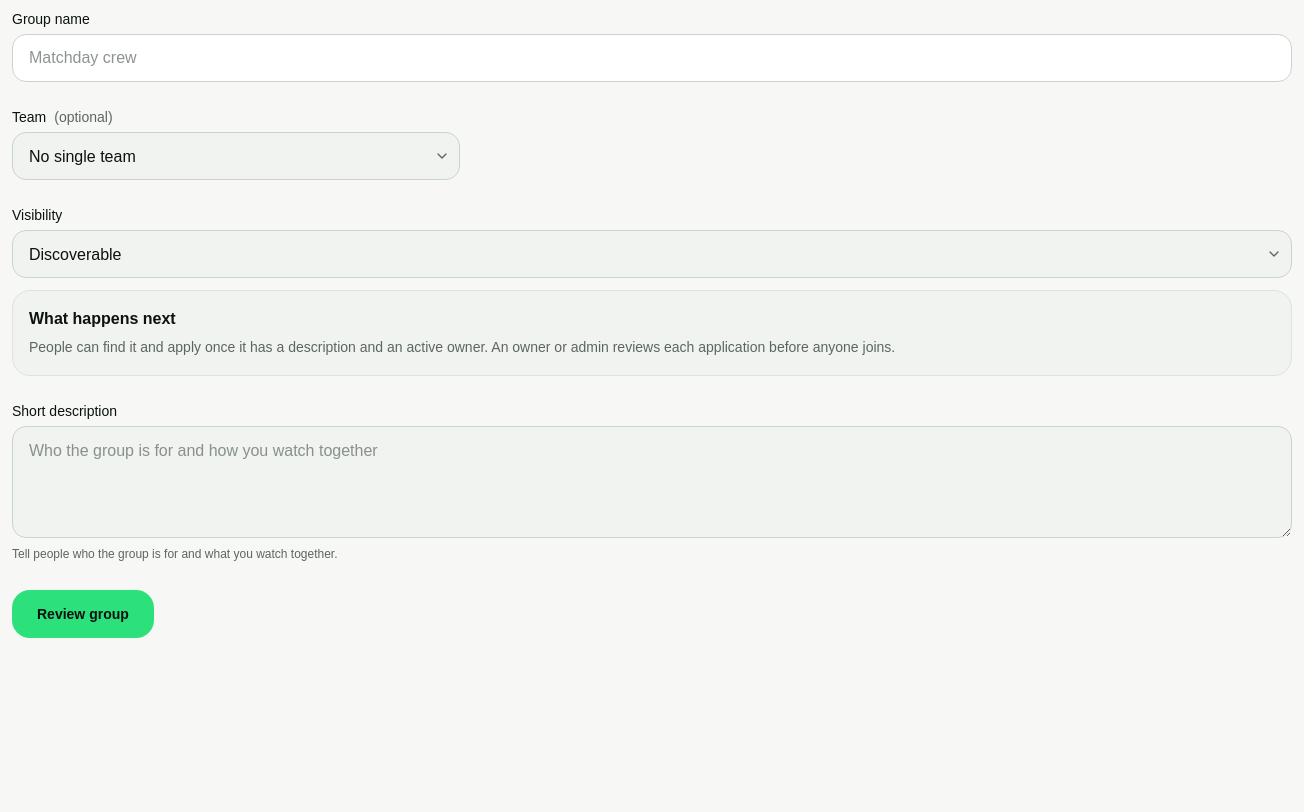
Test: GroupCreateForm › explains the selected visibility boundary before creation
Expected: the text "owner or admin reviews each application" is shown, [29,339,895,355]
Expected: the button "Review group" is shown, [12,590,154,638]
Select "Unlisted" in the dropdown labelled "Visibility" at x=652, y=254, box [12,230,1292,278]
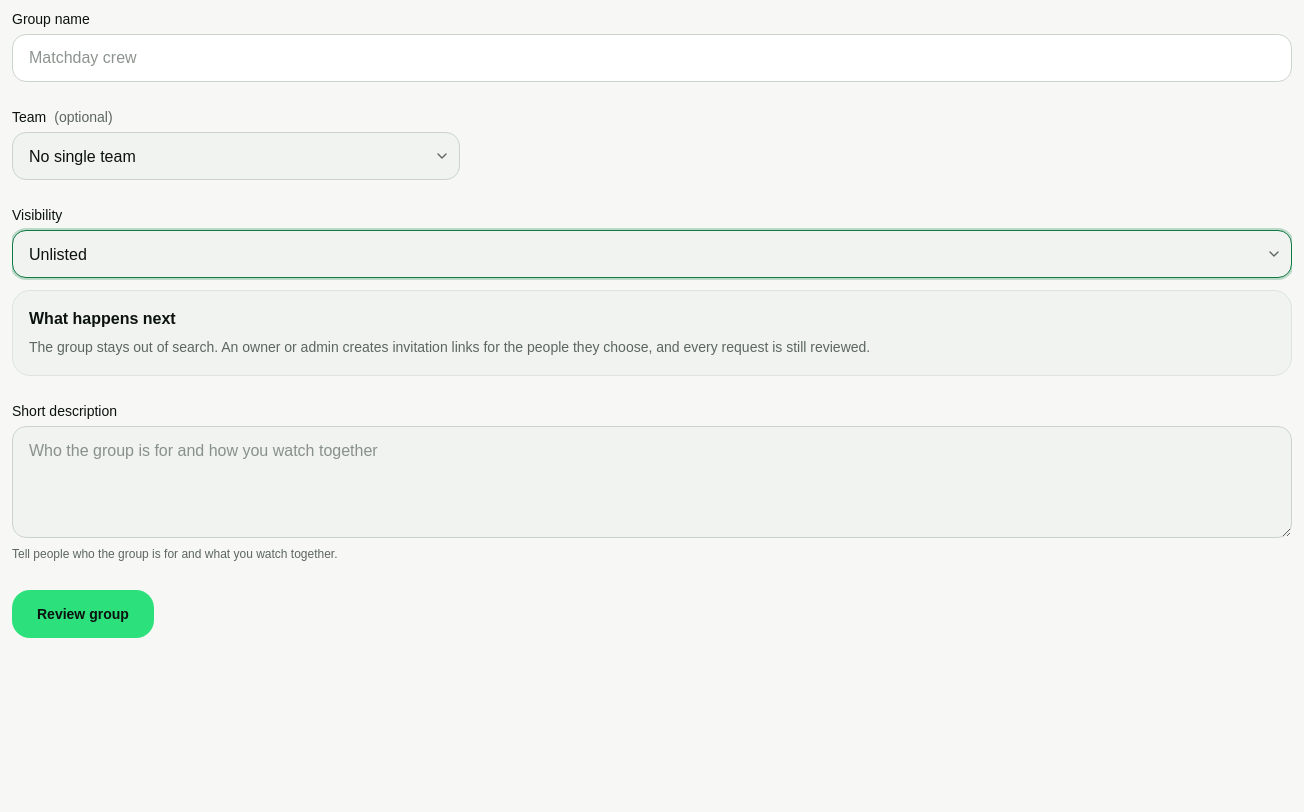
Result: the text "every request is still reviewed" is shown at [29,339,870,355]
